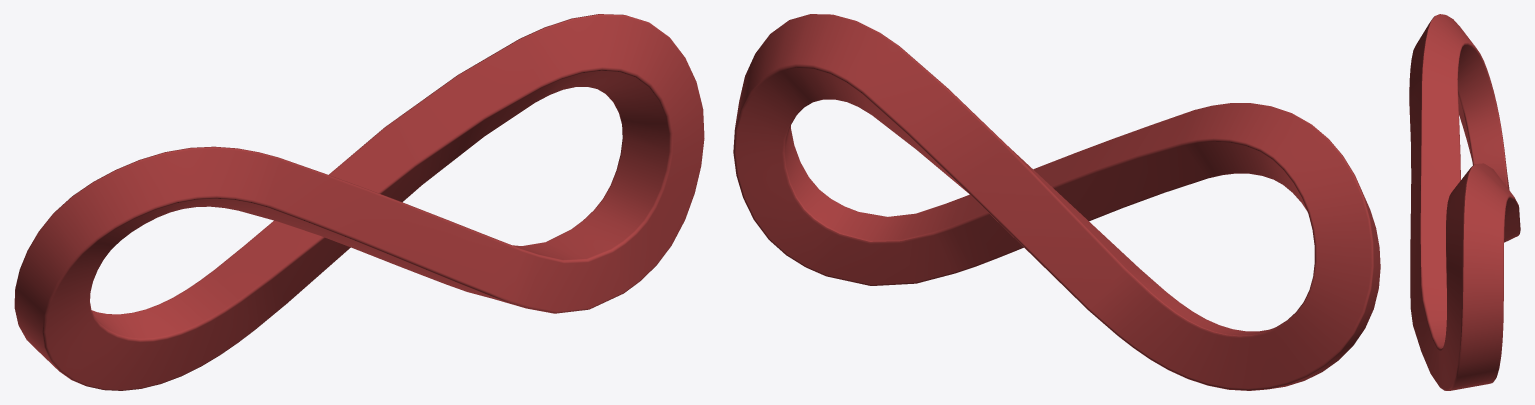
File: InfinitySign_01.fbx
3 renders of one model, left to right at view 1: azimuth 30°, elevation 25°; view 2: azimuth 150°, elevation 25°; view 3: azimuth 270°, elevation 25°, orthographic. The views are drawn at different scales.
Parts seen in each view (by area): view 1: InfinitySign_01; view 2: InfinitySign_01; view 3: InfinitySign_01.
Part boxes in pixels (bbox=[...]): InfinitySign_01: bbox=[14, 14, 704, 390]; InfinitySign_01: bbox=[733, 14, 1380, 390]; InfinitySign_01: bbox=[1409, 14, 1520, 390].
Size of the model in its own units: 88.86 by 34.77 by 16.78.
